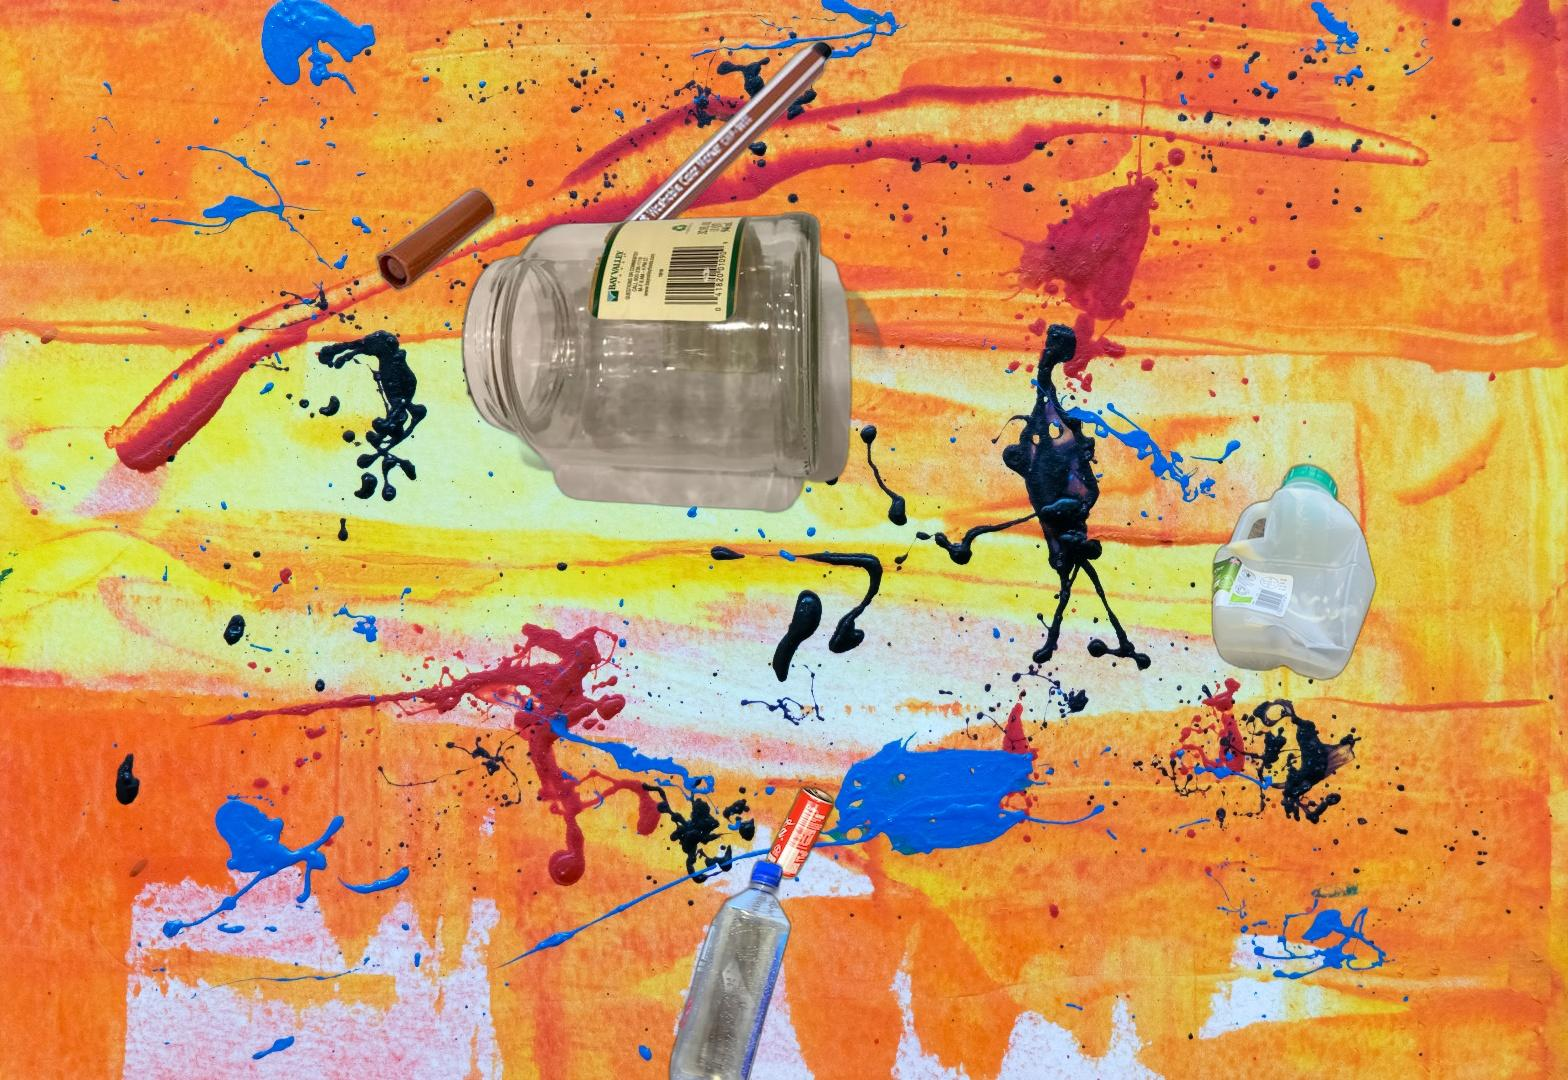glass: (458, 209, 892, 515)
metal-cans: (763, 781, 839, 886)
penholder: (371, 35, 838, 403), (1523, 1072, 1568, 1080)
plastic-bottles: (1207, 458, 1556, 685), (664, 854, 796, 1080)
